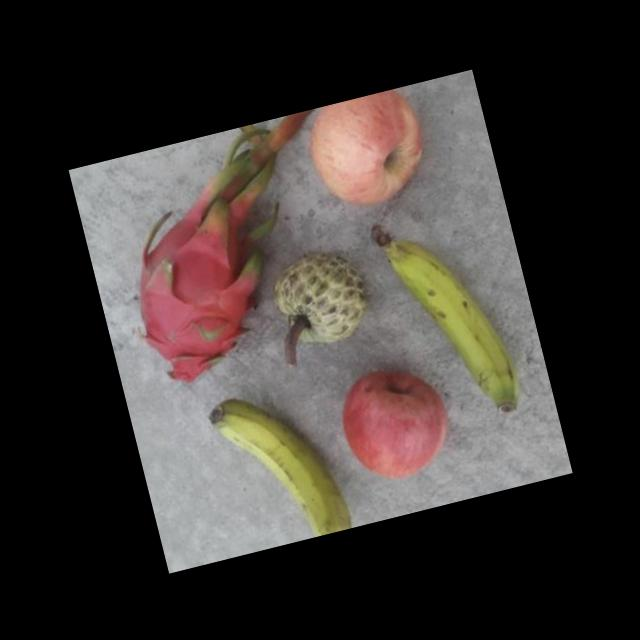Sakya fruit: (264, 238, 382, 356)
apple: (292, 83, 442, 220), (330, 351, 461, 491)
banana: (367, 197, 532, 436), (198, 376, 352, 556)
pitaya: (115, 200, 279, 391)
